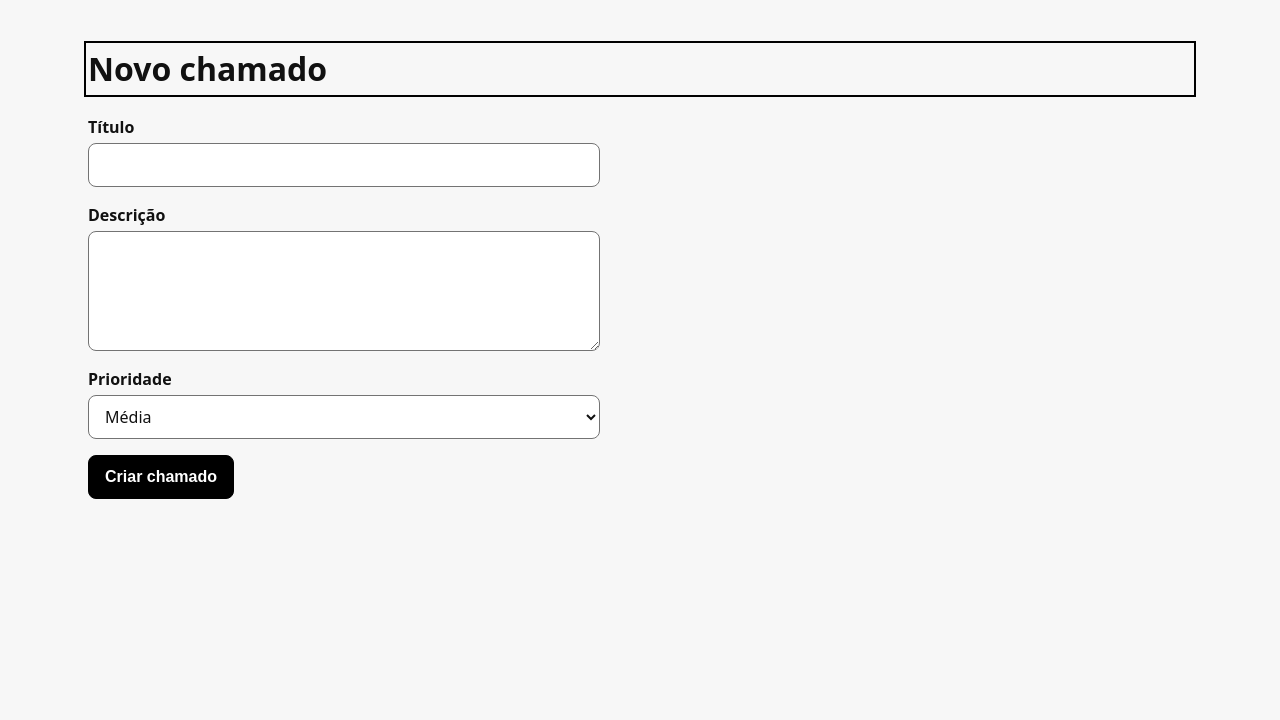
Test: TicketCreatePage › shows field errors returned by the API
Type "Computador não liga" into the field labelled "Título" at (344, 165), box [88, 143, 600, 187]
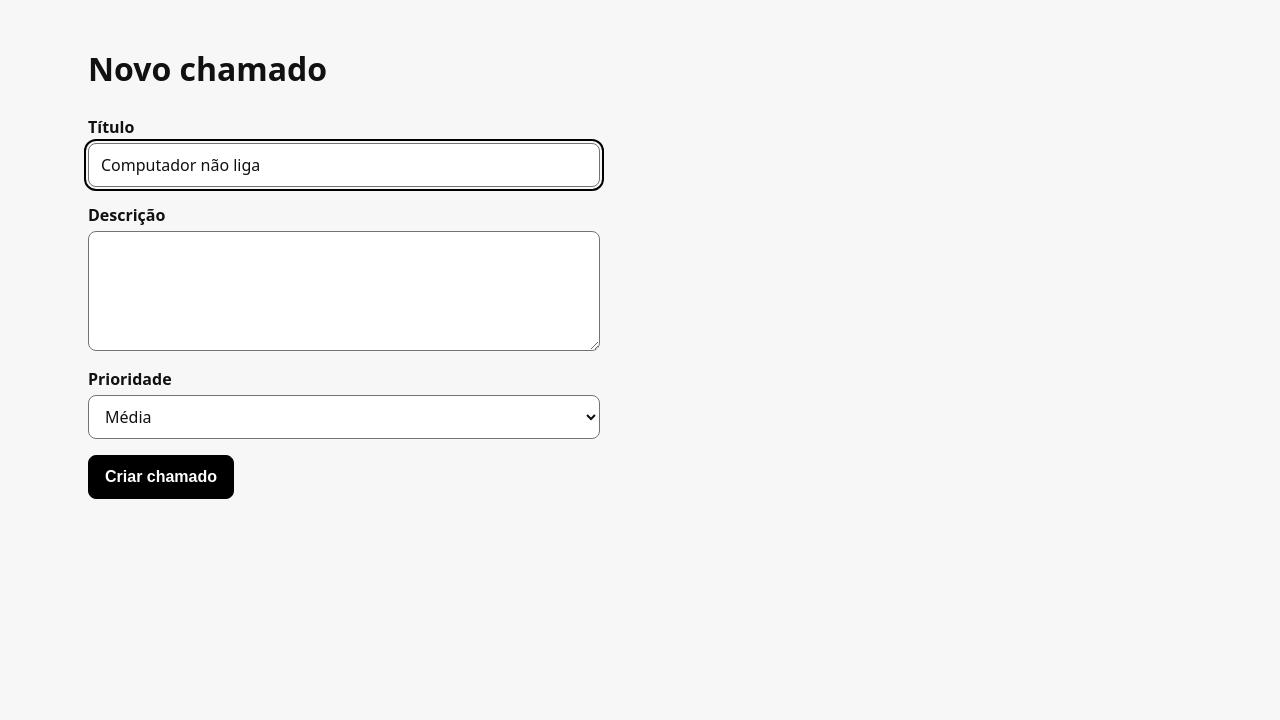
Type "Ao pressionar o botão, nenhum LED acende." into the text box labelled "Descrição" at (344, 291), box [88, 231, 600, 351]
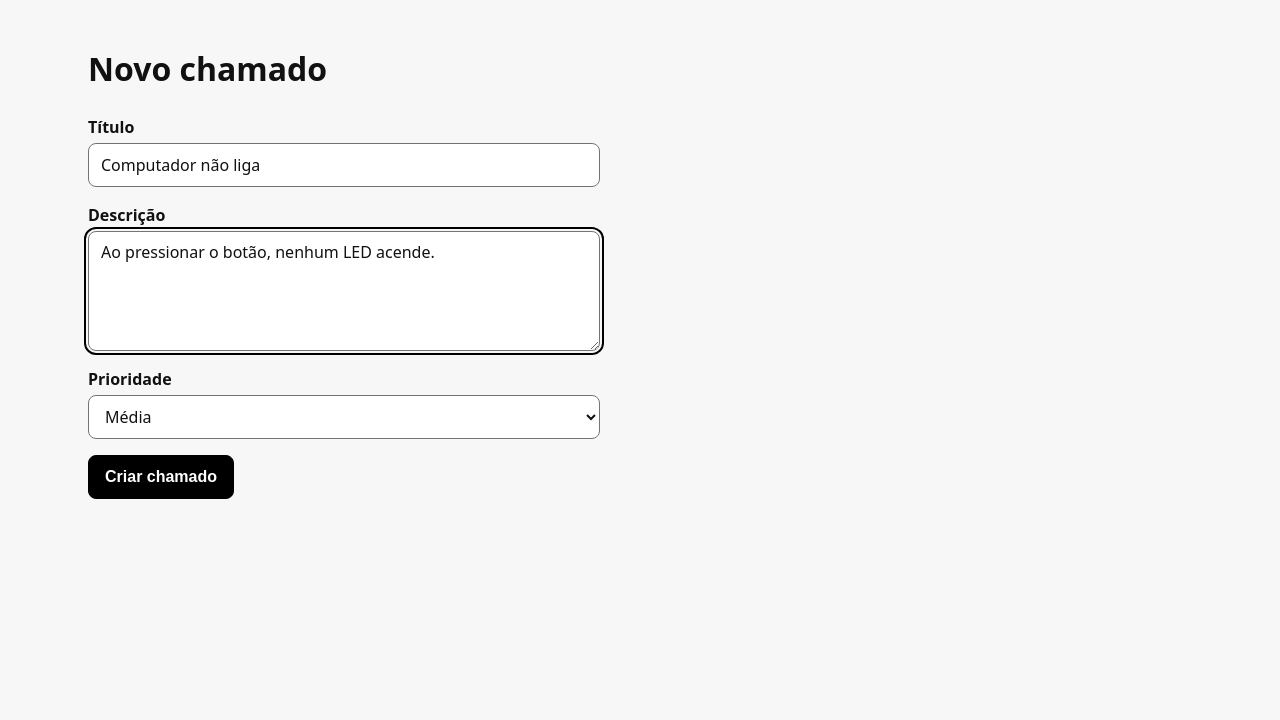
Click the button "Criar chamado" at (161, 477), box [88, 455, 234, 499]
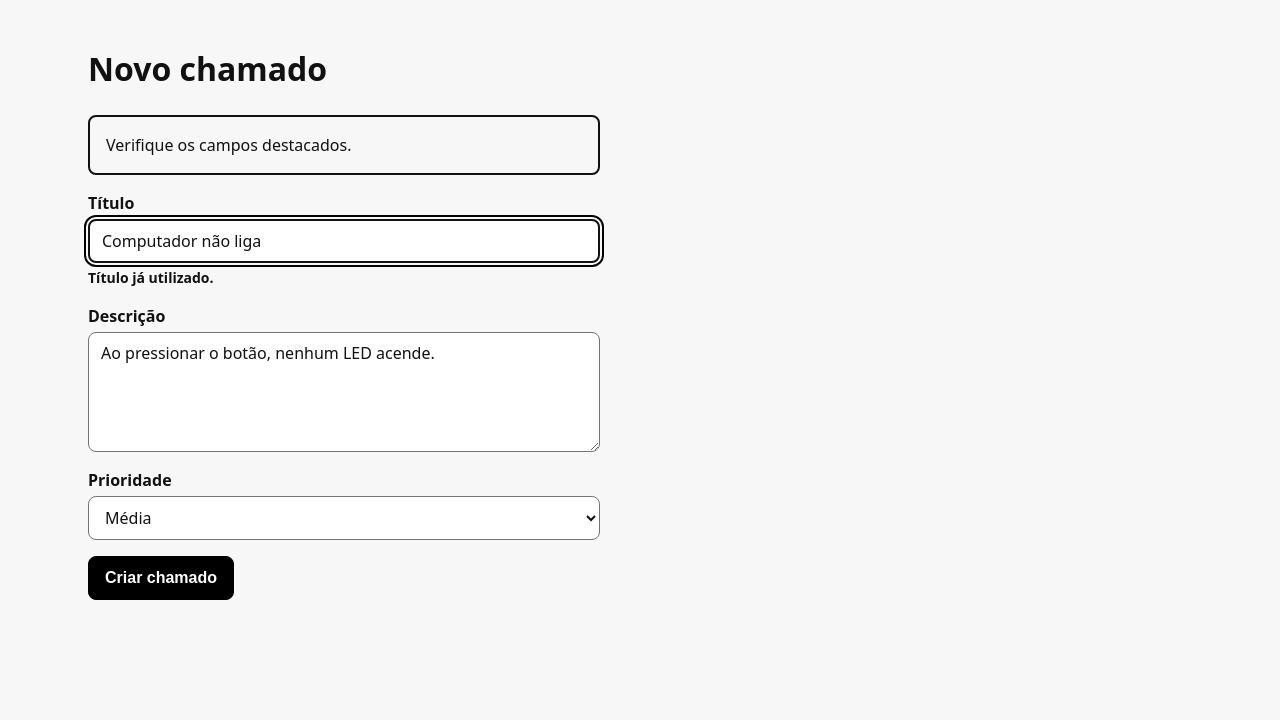
Expected: the text "Título já utilizado." is shown, [88, 268, 214, 287]
